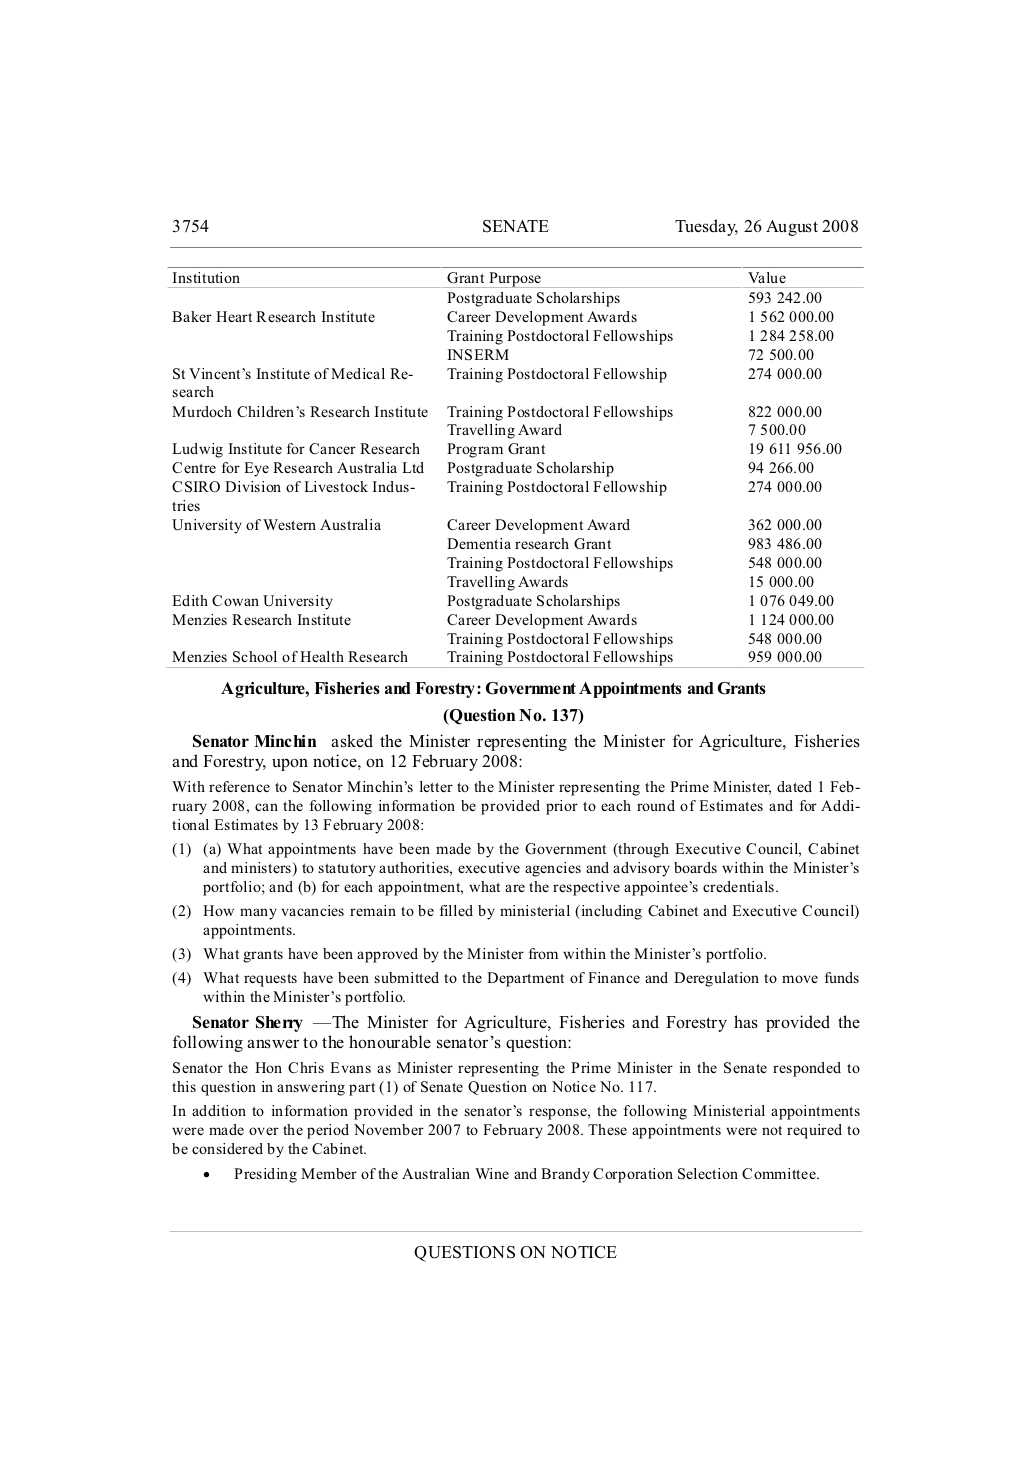Table: (166, 267, 864, 667)
